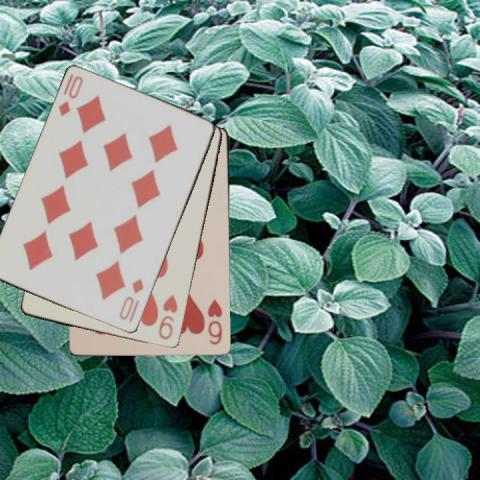10d: (55, 73, 85, 118), (116, 276, 145, 322)
6h: (205, 296, 224, 346)
9h: (155, 292, 180, 341)
